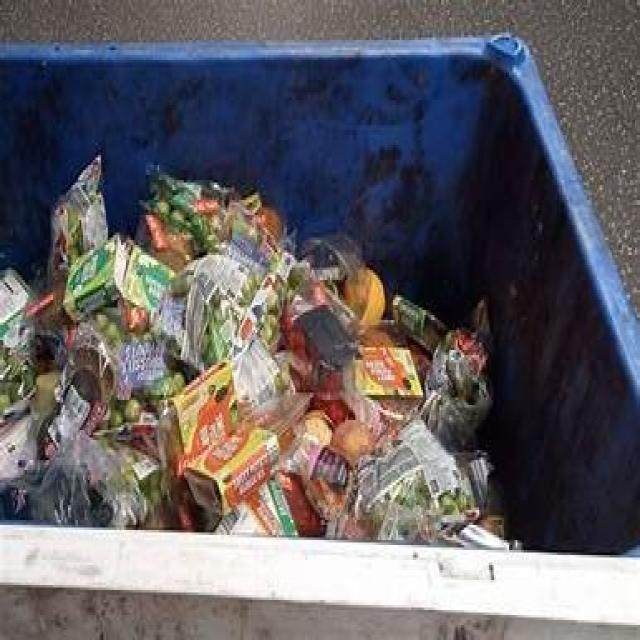Garbage: (0, 156, 506, 546)
Plastic_wraper: (185, 426, 280, 515), (169, 360, 236, 476), (49, 155, 108, 285), (115, 237, 175, 317), (64, 237, 119, 320), (354, 347, 422, 398)
